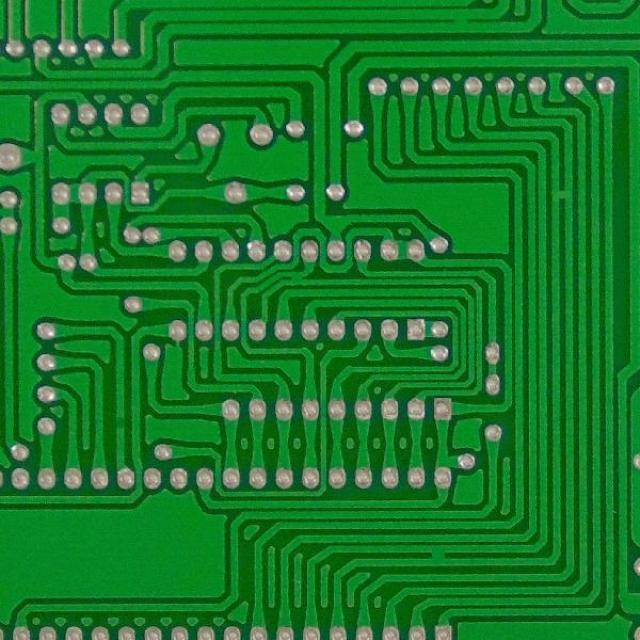short: (444, 9, 474, 34), (427, 542, 453, 565), (551, 182, 573, 204), (287, 271, 306, 285)
